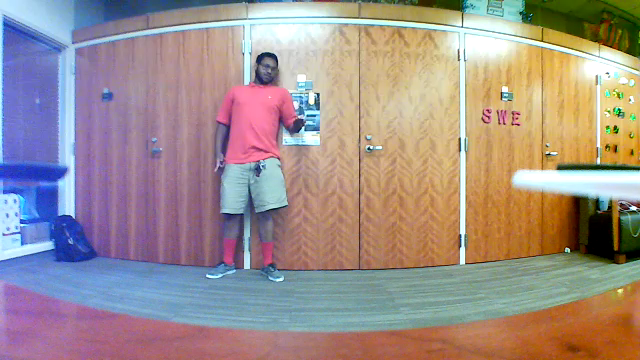land: (283, 112, 310, 137)
